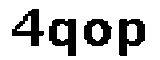4: (8, 5, 46, 50)
o: (82, 13, 111, 51)
p: (118, 17, 154, 59)
q: (47, 16, 79, 60)
